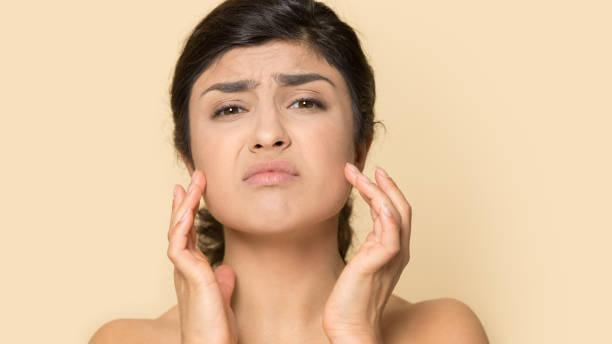Dry-Skin: (292, 115, 353, 175), (225, 46, 300, 77), (204, 123, 236, 175)
